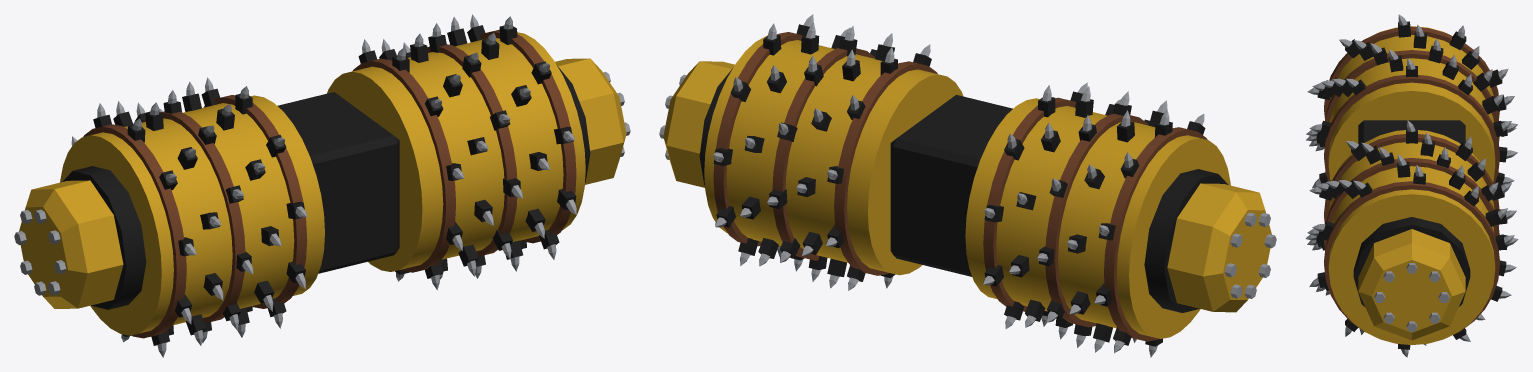
The model's file is mk1_head.obj.
3 views of the same model, side by side, from view 1: azimuth 30°, elevation 25°; view 2: azimuth 150°, elevation 25°; view 3: azimuth 270°, elevation 25° (orthographic). The views are drawn at different scales.
Parts seen in each view (by area): view 1: mk1_head; view 2: mk1_head; view 3: mk1_head.
Part boxes in pixels (x1,y1,x2,y2): mk1_head: (14, 14, 630, 357); mk1_head: (659, 14, 1276, 357); mk1_head: (1305, 14, 1518, 357).
Size of the model in its own units: 3.98 by 1.59 by 1.59.
